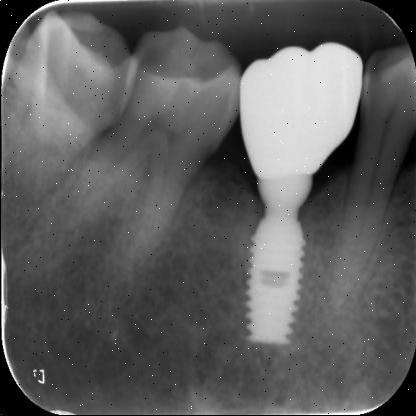Bicon: (229, 161, 320, 358)
